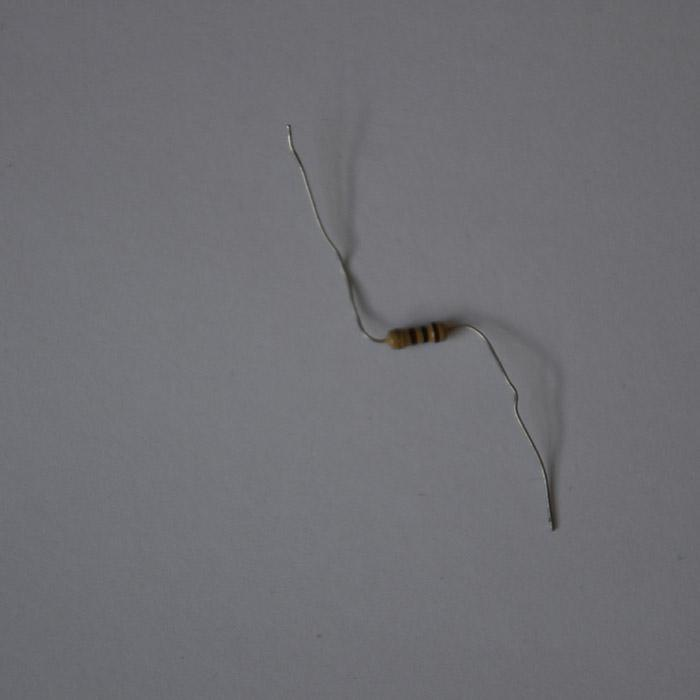resistor: (385, 321, 451, 348)
